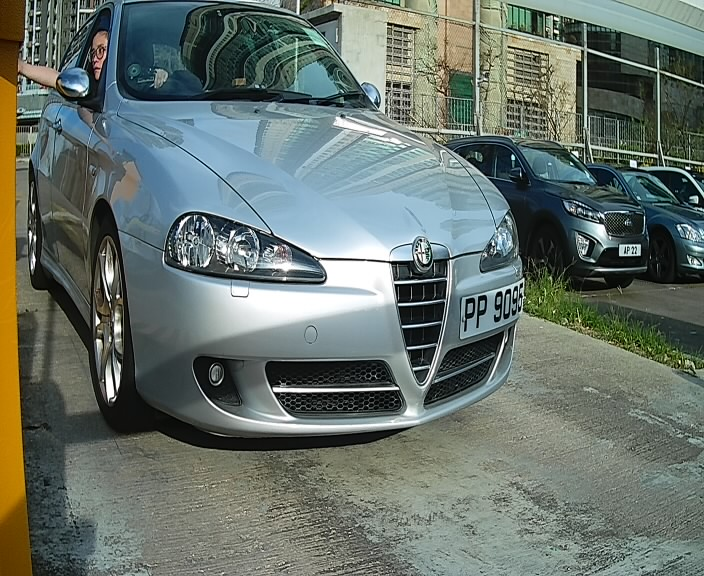Car: (451, 278, 534, 344)
License Plate: (19, 2, 558, 460)
